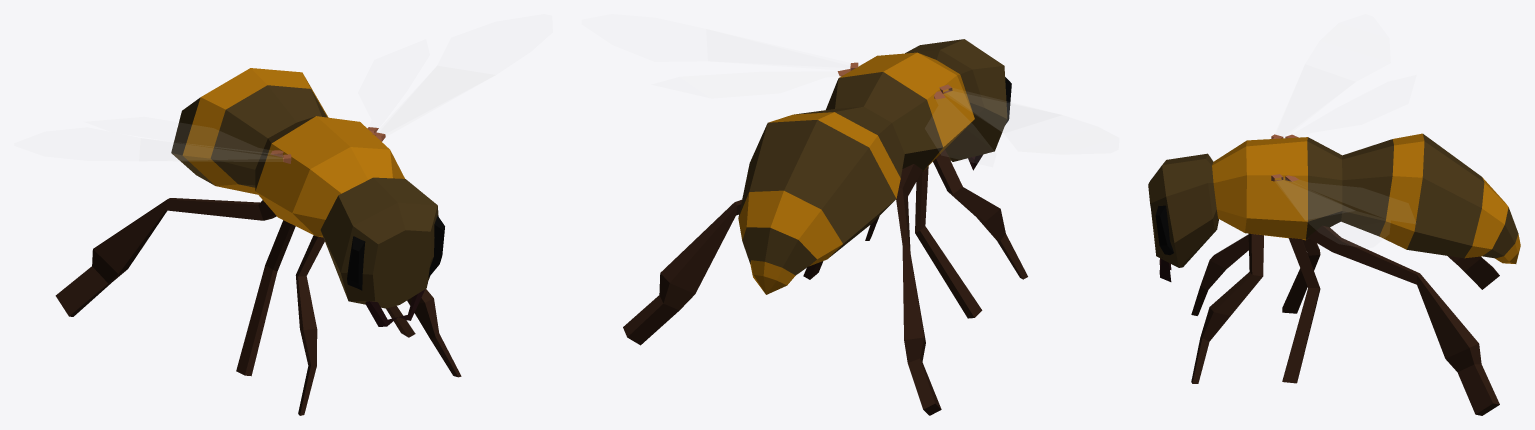
The model's file is abeille_qualite_moyenne.fbx.
The picture shows the model from 3 angles, left to right: view 1: azimuth 30°, elevation 25°; view 2: azimuth 150°, elevation 25°; view 3: azimuth 270°, elevation 25°; orthographic projection. The views are drawn at different scales.
Visible parts, largest first — view 1: Abeille; view 2: Abeille; view 3: Abeille.
Boxes of the visible parts, bbox=[...] form: Abeille: bbox=[55, 66, 494, 415]; Abeille: bbox=[623, 29, 1060, 415]; Abeille: bbox=[1148, 64, 1520, 415].
Bounding box in the file's own units: 2.12 × 0.9384 × 1.43.
